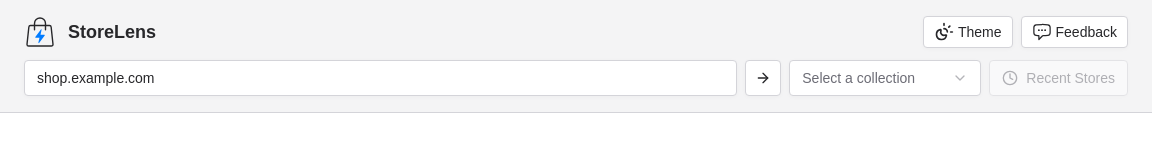
Scenario: Header collection dropdown › groups a collection's count the way the locale does (#115)
Click the dropdown: (885, 78) top-left (789, 60), bottom-right (981, 96)
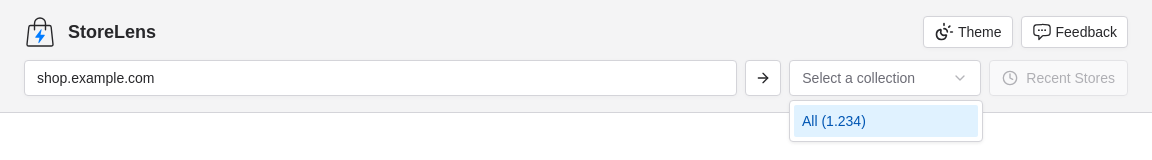
Expected: the options read "All (1.234)", in this order, top-left (794, 105), bottom-right (978, 137)
